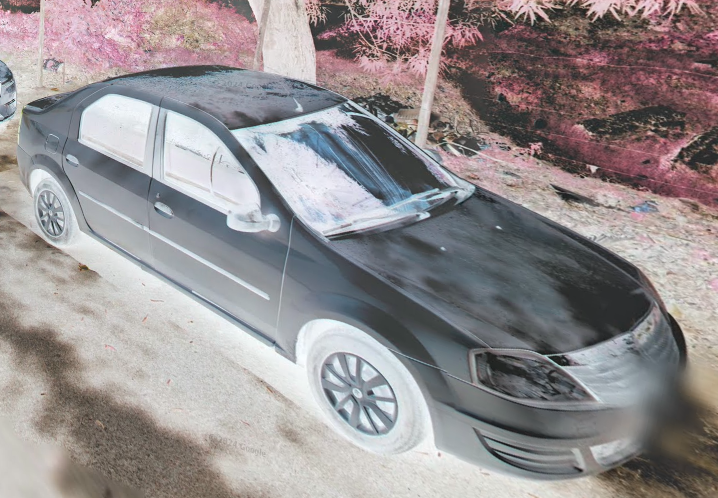car: (16, 64, 688, 478)
